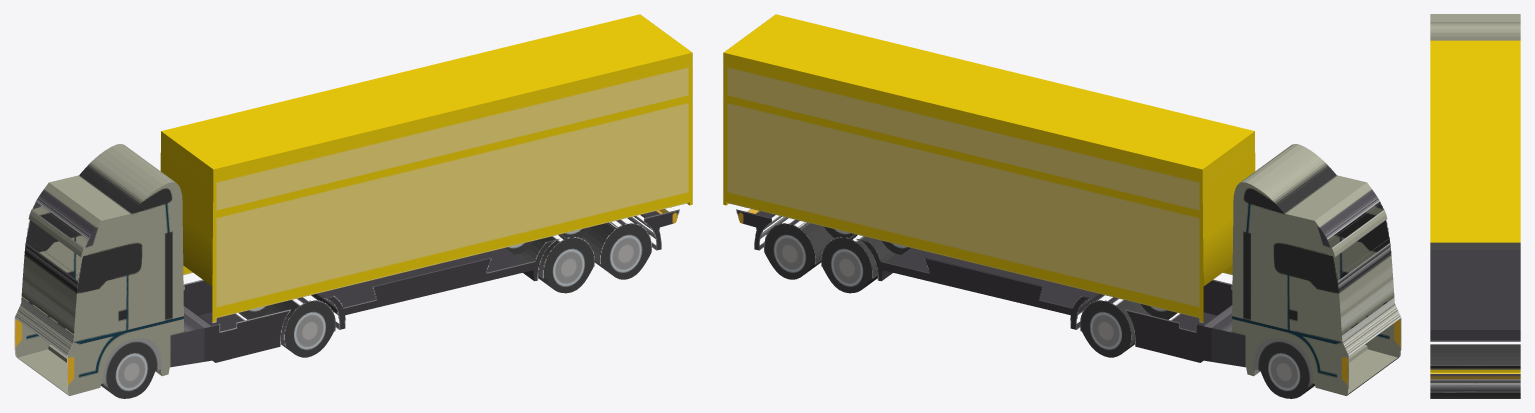
Rendered from yellowTruck.FBX.
The picture shows the model from 3 angles, left to right: view 1: azimuth 30°, elevation 25°; view 2: azimuth 150°, elevation 25°; view 3: azimuth 270°, elevation 25°; orthographic projection. The views are drawn at different scales.
Parts seen in each view (by area): view 1: yellowTruck; view 2: yellowTruck; view 3: yellowTruck.
Part boxes in pixels (box(x1,y1,x2,y2)): yellowTruck: box(14, 14, 692, 398); yellowTruck: box(723, 14, 1401, 398); yellowTruck: box(1430, 14, 1520, 398).
Bounding box in the file's own units: 74.9 × 24.07 × 10.85.
1 material, 1 textured.
